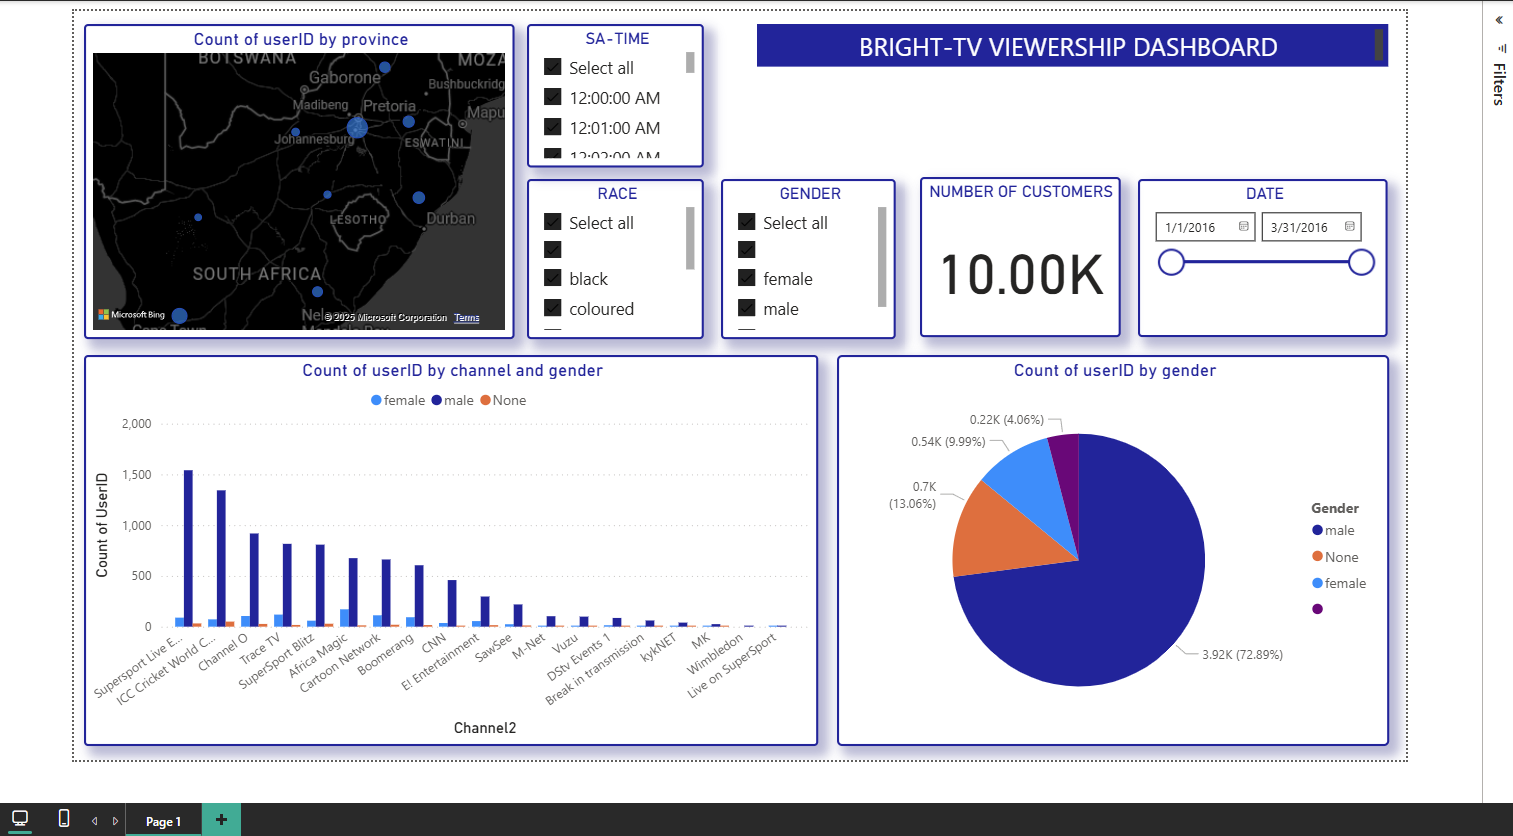

Layout of this report page (visuals, bound fields, positions):
{"tool":"powerbi","page":{"name":"Page 1","canvas":[1280,720],"ordinal":0},"visuals":[{"type":"map","title":"Count of userID by province","fields":{"Category":["bright tv dataset.Province"],"Size":["CountNonNull(bridght tv datasey 3 0.UserID)"]},"box":[9.6,12.8,413.8,303.2],"z":0},{"type":"slicer","title":"GENDER","fields":{"Values":["bright tv dataset.Gender"]},"box":[622.3,161.7,168.1,154.3],"z":1000},{"type":"slicer","title":"DATE","fields":{"Values":["bridght tv datasey 3 0.RecordDate2"]},"box":[1023.4,161.7,240.4,152.1],"z":2000},{"type":"slicer","title":"RACE","fields":{"Values":["bright tv dataset.Race"]},"box":[435.1,161.7,170.2,154.3],"z":3000},{"type":"card","title":"NUMBER OF CUSTOMERS","fields":{"Values":["CountNonNull(bridght tv datasey 3 0.UserID)"]},"box":[813.8,159.6,192.6,154.3],"z":4000},{"type":"clusteredColumnChart","title":"Count of userID by channel and gender","fields":{"Y":["CountNonNull(bridght tv datasey 3 0.UserID)"],"Category":["bridght tv datasey 3 0.Channel2"],"Series":["bright tv dataset.Gender"]},"box":[10,331.1,705.6,375.6],"z":5000},{"type":"pieChart","title":"Count of userID by gender","fields":{"Category":["bright tv dataset.Gender"],"Y":["Count(bright tv dataset.UserID)"]},"box":[733.3,331.1,531.1,375.6],"z":6000},{"type":"slicer","title":"SA-TIME","fields":{"Values":["bridght tv datasey 3 0.SA-TIME"]},"box":[435.1,12.8,170.2,138.3],"z":6001},{"type":"textbox","box":[656.4,12.8,607.4,41.5],"z":6002}]}

Visuals, with their boxes on the page's 1280x720 design canvas (x1, y1, x2, y2). These are canvas units, not pixel positions in the 1513x836 screenshot, which may show the page scaled, cropped or inside an application window:
"Count of userID by province" map: select_region(10, 13, 423, 316)
"GENDER" slicer: select_region(622, 162, 790, 316)
"DATE" slicer: select_region(1023, 162, 1264, 314)
"RACE" slicer: select_region(435, 162, 605, 316)
"NUMBER OF CUSTOMERS" card: select_region(814, 160, 1006, 314)
"Count of userID by channel and gender" clusteredColumnChart: select_region(10, 331, 716, 707)
"Count of userID by gender" pieChart: select_region(733, 331, 1264, 707)
"SA-TIME" slicer: select_region(435, 13, 605, 151)
textbox: select_region(656, 13, 1264, 54)
